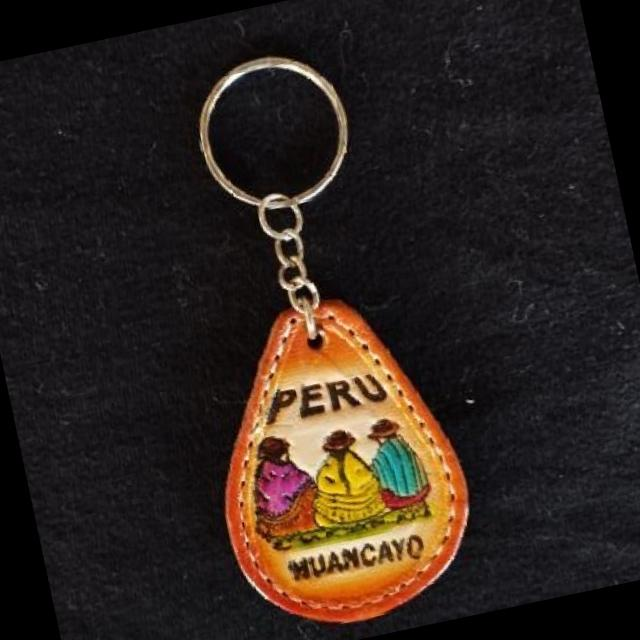Llavero: (183, 275, 491, 640)
